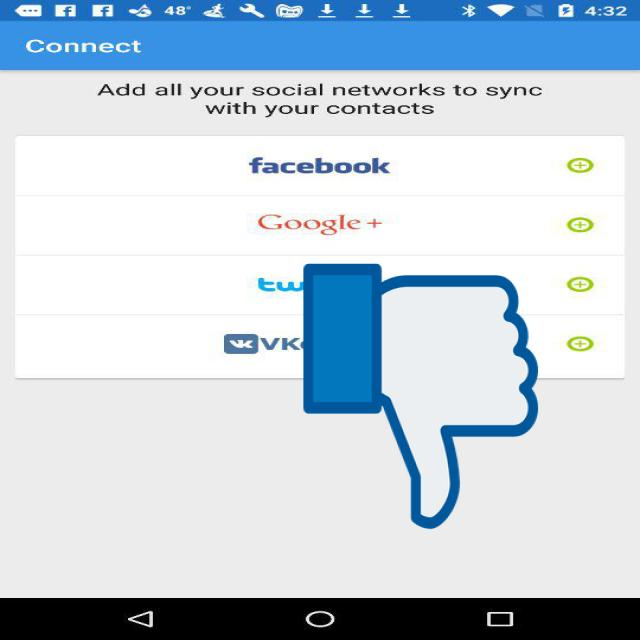obstruction: (303, 258, 538, 535)
